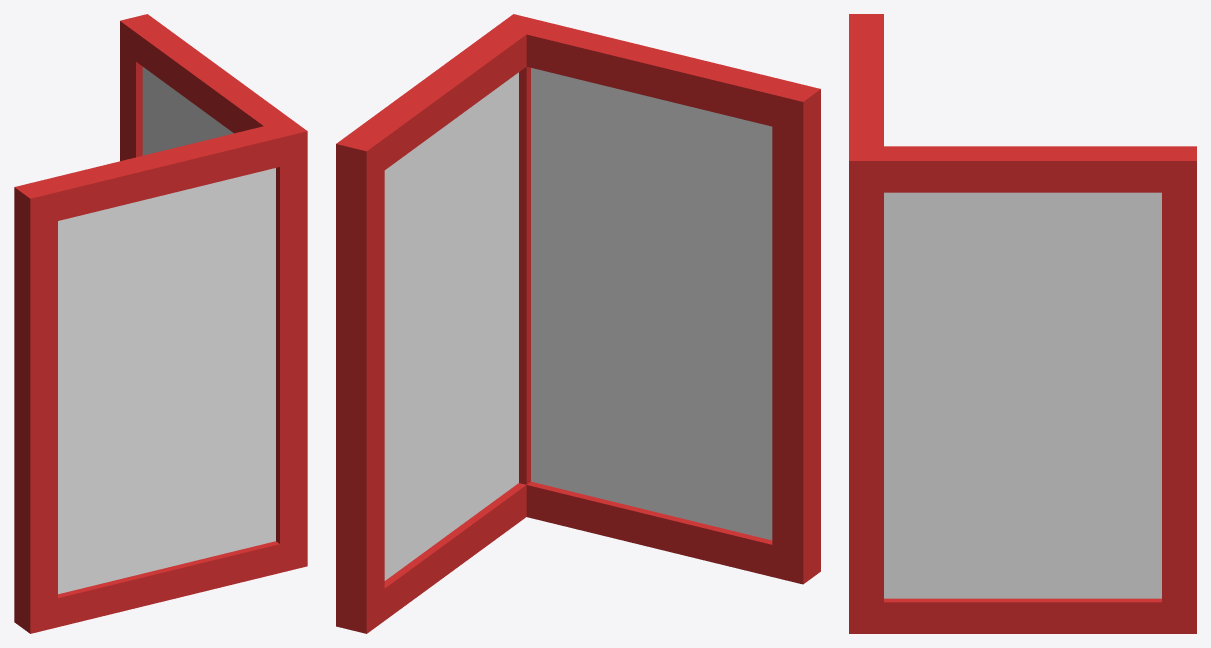
The model's file is Cleptomaniac MarktMedia Window (Corner R).FBX.
The picture shows the model from 3 angles, left to right: view 1: azimuth 30°, elevation 25°; view 2: azimuth 150°, elevation 25°; view 3: azimuth 270°, elevation 25°; orthographic projection. The views are drawn at different scales.
Visible parts, largest first — view 1: Window Corner R; view 2: Window Corner R; view 3: Window Corner R.
Part boxes in pixels (<box>): Window Corner R: <box>14,14,307,633</box>; Window Corner R: <box>336,14,820,633</box>; Window Corner R: <box>849,14,1196,633</box>.
Bounding box in the file's own units: 2 × 3 × 2.
